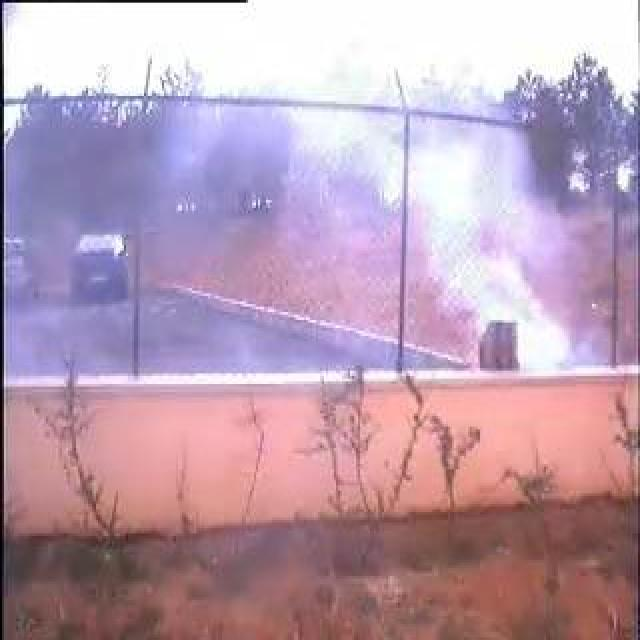Smoke: (287, 77, 573, 366)
